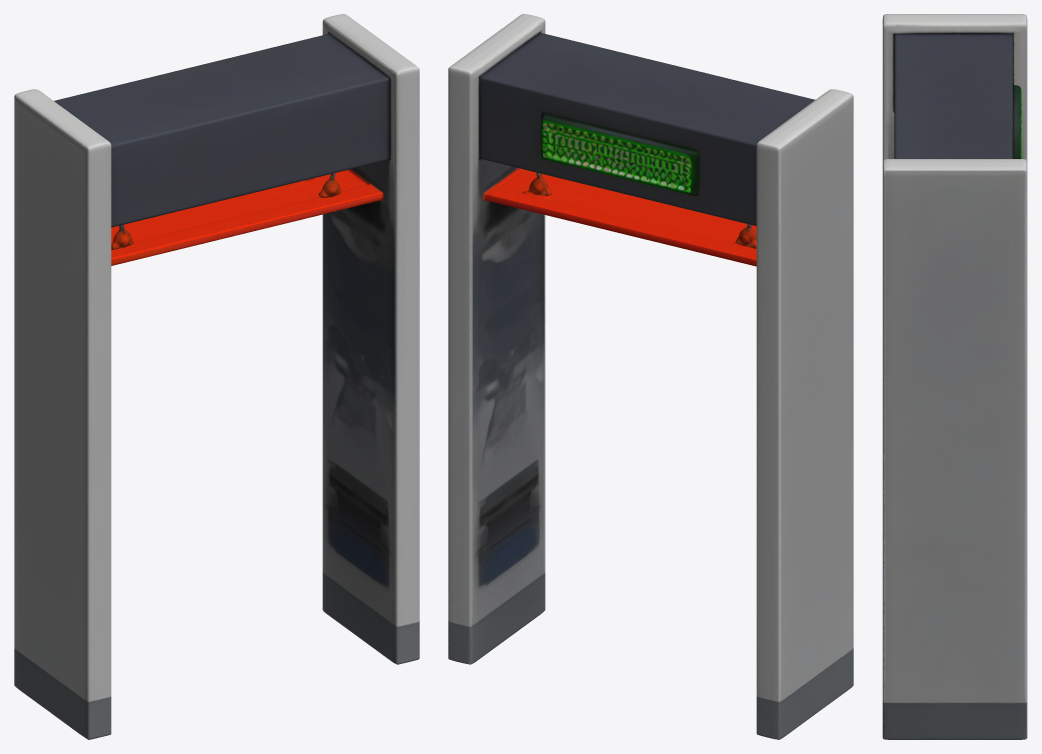
Rendered from tripo_convert_0cc8745f-8437-4018-aa1c-6d2fd8278e4d.fbx.
3 views of the same model, side by side, from view 1: azimuth 30°, elevation 25°; view 2: azimuth 150°, elevation 25°; view 3: azimuth 270°, elevation 25° (orthographic). The views are drawn at different scales.
Visible parts, largest first — view 1: tripo_node_0cc8745f; view 2: tripo_node_0cc8745f; view 3: tripo_node_0cc8745f.
Boxes of the visible parts, box(x1,y1,x2,y2) form: tripo_node_0cc8745f: box(14, 14, 419, 739); tripo_node_0cc8745f: box(448, 14, 853, 739); tripo_node_0cc8745f: box(882, 14, 1027, 739).
Size of the model in its own units: 0.5873 by 1 by 0.2298.
Materials: 1 (1 with a texture image).
